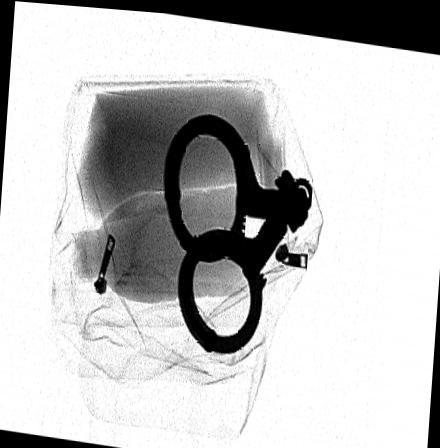HandCuffs: (162, 110, 312, 351)
